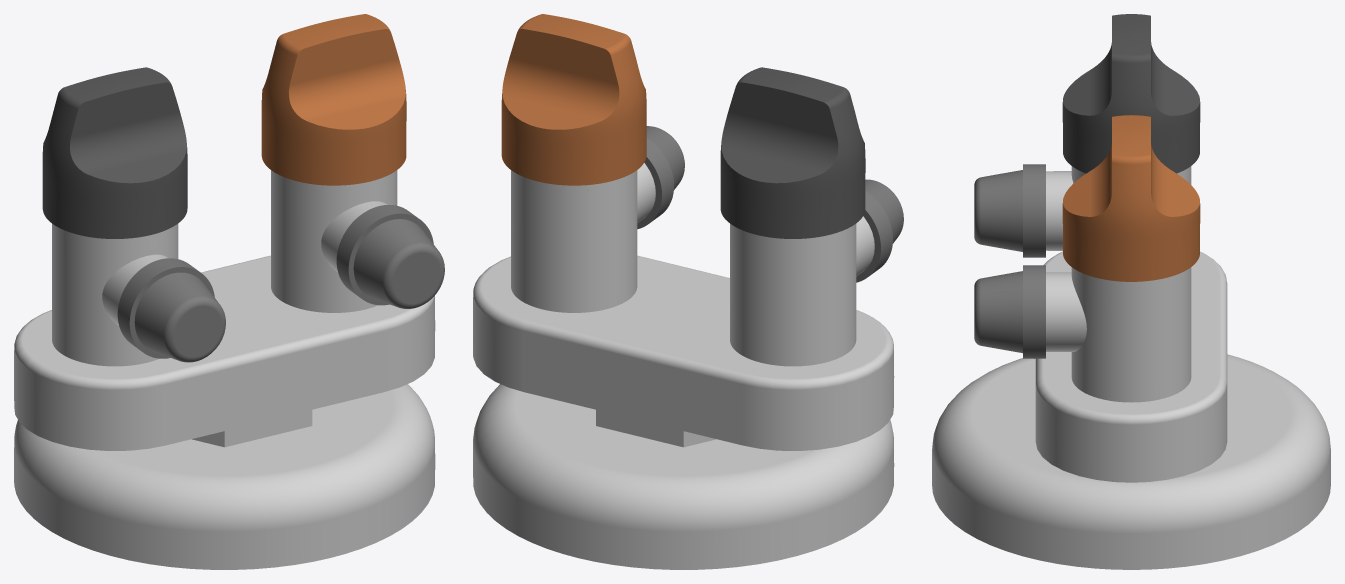
The model's file is 150_ガスの元栓.glb.
The picture shows the model from 3 angles, left to right: view 1: azimuth 30°, elevation 25°; view 2: azimuth 150°, elevation 25°; view 3: azimuth 270°, elevation 25°; orthographic projection. The views are drawn at different scales.
Parts seen in each view (by area): view 1: Body, ひねり右, ひねり左, キャップ左, キャップ右; view 2: Body, ひねり左, ひねり右, キャップ左, キャップ右; view 3: Body, ひねり右, ひねり左, キャップ左, キャップ右.
Boxes of the visible parts, x1,y1,x2,y2 form: Body: (14, 170, 435, 569); ひねり右: (261, 14, 406, 185); ひねり左: (42, 67, 187, 238); キャップ左: (117, 258, 225, 362); キャップ右: (336, 205, 444, 308); Body: (473, 163, 894, 569); ひねり左: (720, 67, 865, 238); ひねり右: (501, 14, 646, 185); キャップ左: (856, 179, 903, 282); キャップ右: (637, 126, 684, 229); Body: (932, 166, 1330, 569); ひねり右: (1062, 115, 1200, 281); ひねり左: (1062, 14, 1200, 173); キャップ左: (974, 164, 1045, 257); キャップ右: (974, 265, 1045, 358).
Bounding box in the file's own units: 0.081 × 0.0835 × 0.075.
